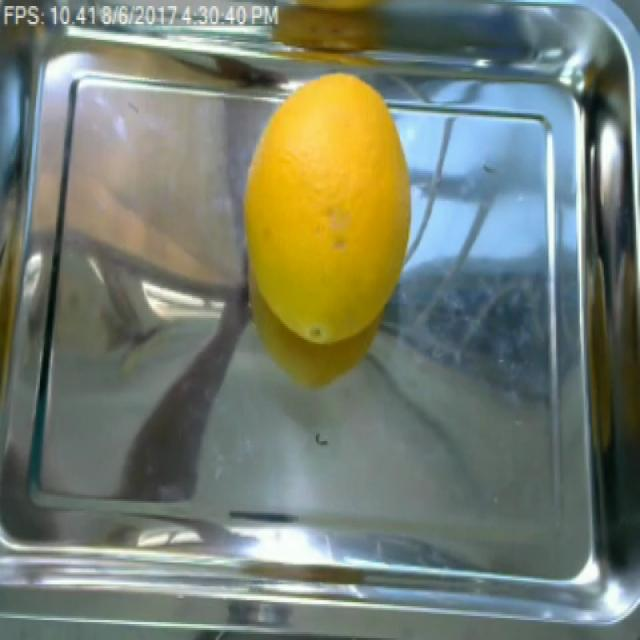Fruit: (229, 63, 415, 390)
